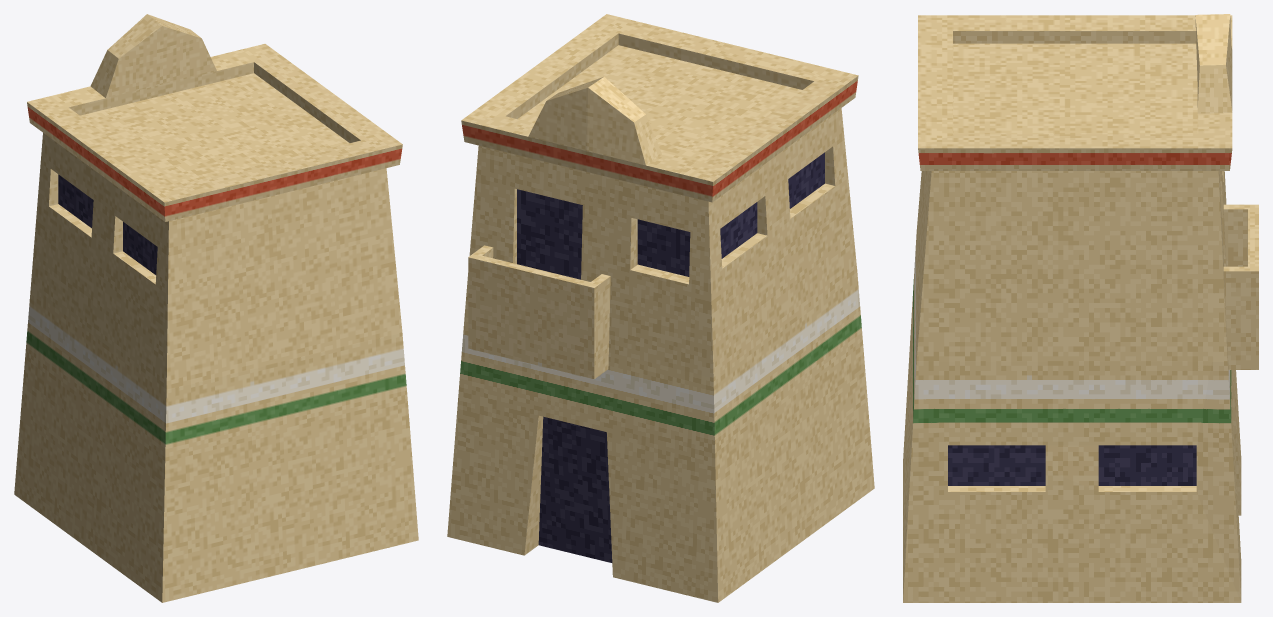
File: CasaEgiptoModeloB.fbx
The picture shows the model from 3 angles, left to right: view 1: azimuth 30°, elevation 25°; view 2: azimuth 150°, elevation 25°; view 3: azimuth 270°, elevation 25°; orthographic projection. The views are drawn at different scales.
Visible parts, largest first — view 1: CasaModeloB; view 2: CasaModeloB; view 3: CasaModeloB.
Boxes of the visible parts, box(x1,y1,x2,y2) form: CasaModeloB: box(14, 14, 418, 602); CasaModeloB: box(447, 14, 874, 602); CasaModeloB: box(903, 14, 1258, 602).
Size of the model in its own units: 2.77 by 4.68 by 2.92.
